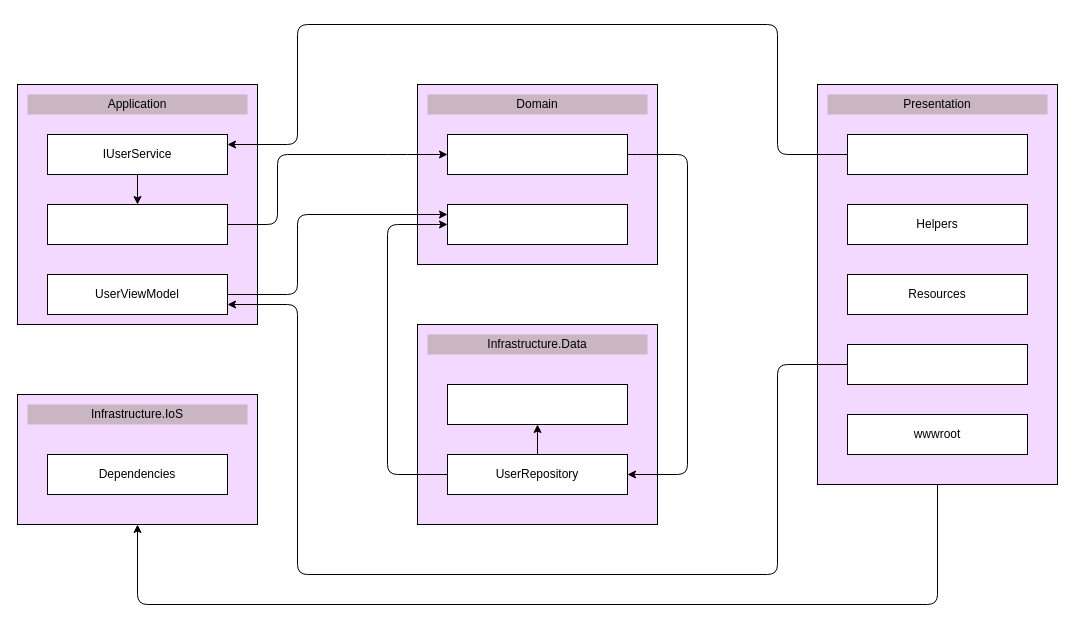
Image size: 1075x630. Some labels were removed from this diagram. The shapes that lost their labels are listed below. From the top down, each one's box as (x1, y1, x2, y2) in pixels, then its label:
(446, 134, 628, 174): IUserRepository
(846, 134, 1028, 174): UserController
(46, 204, 228, 244): UserService
(446, 204, 628, 244): User
(846, 344, 1028, 384): GetUser (View)
(446, 384, 628, 424): Db
